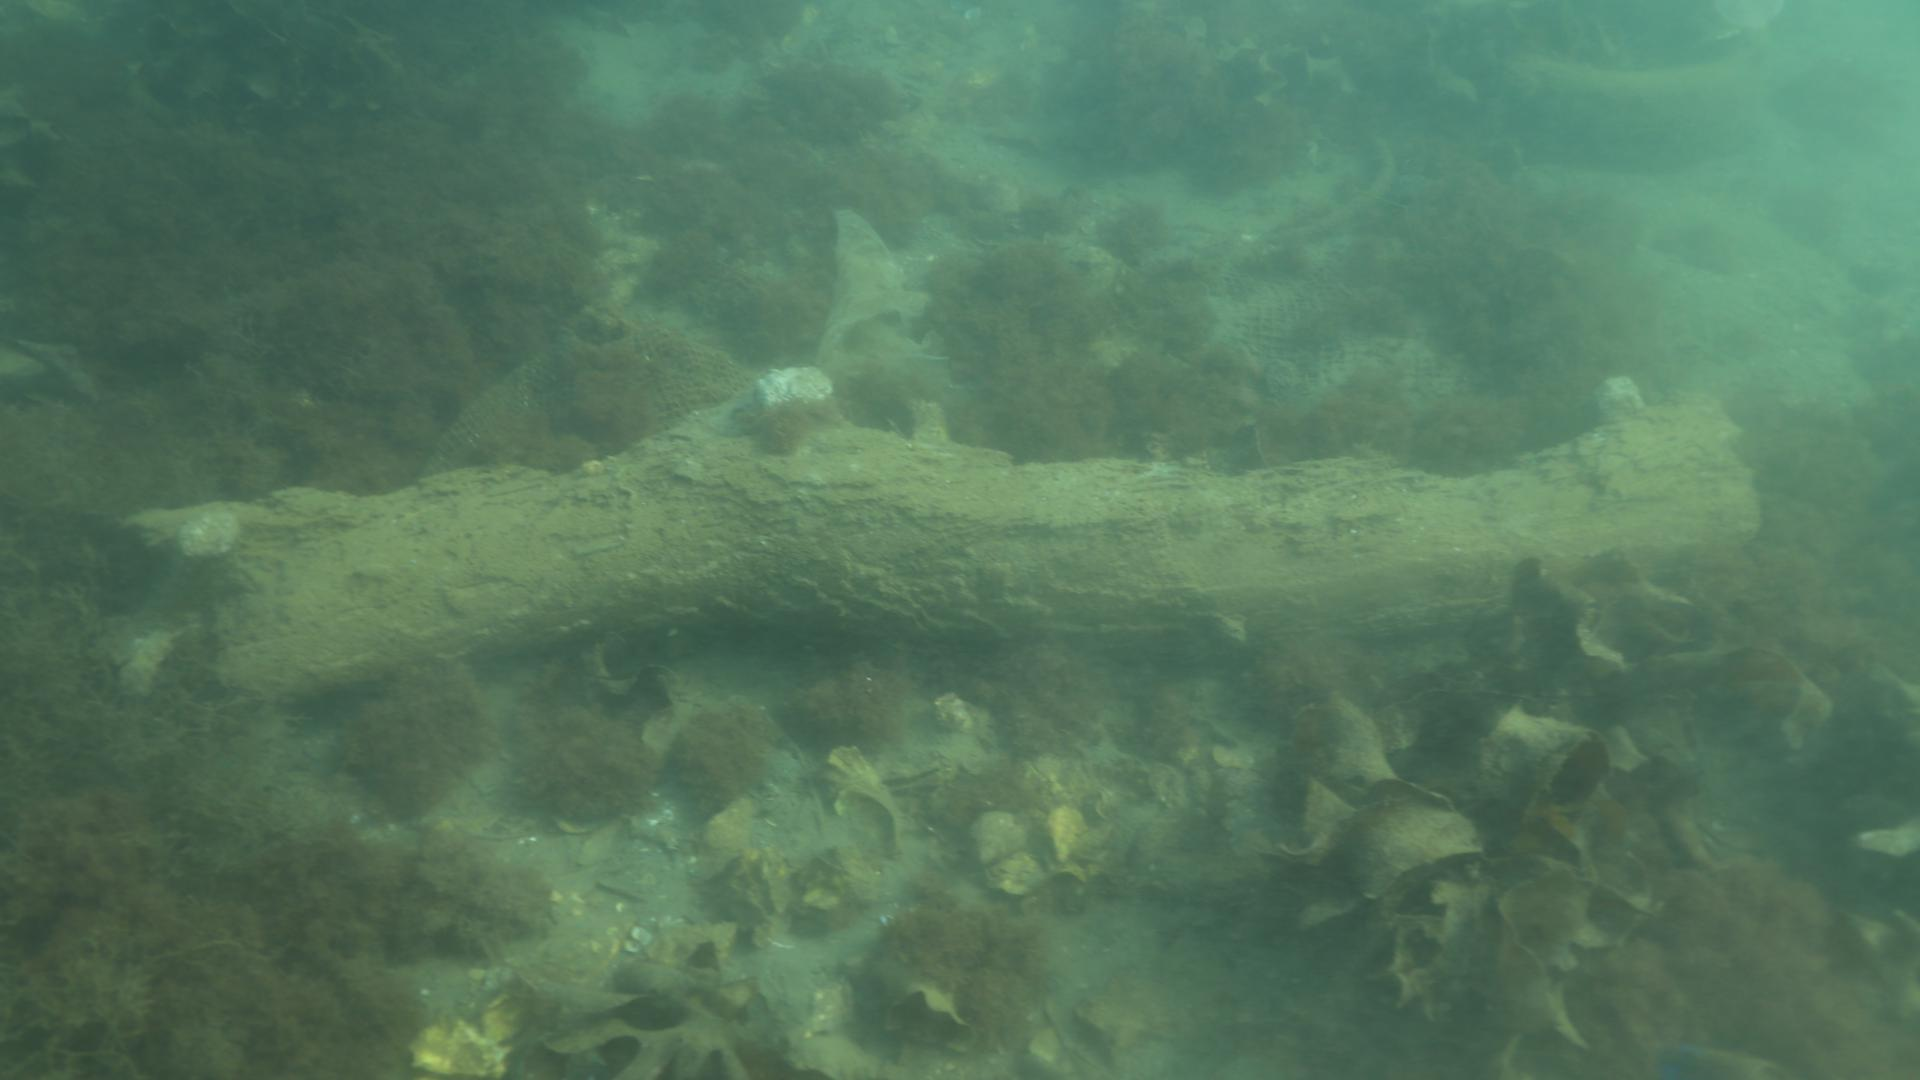fish net: (1215, 258, 1457, 388)
tire: (1484, 0, 1764, 164)
wood: (119, 386, 1759, 709)
